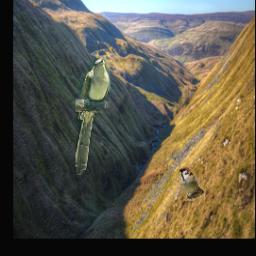Cuckoo: (75, 59, 110, 175)
Sparrow: (179, 166, 204, 201)
